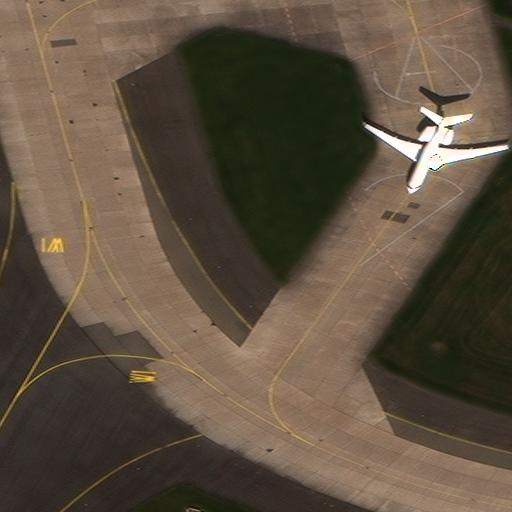Medium Civil Transport: (367, 109, 509, 200)
